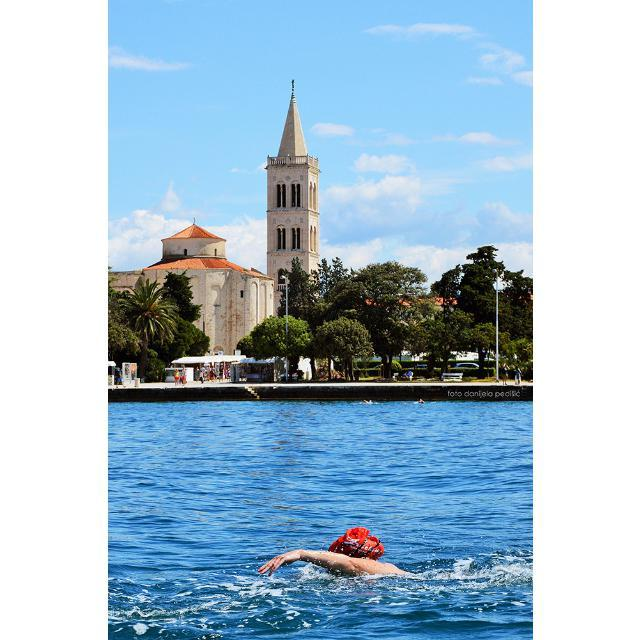human: (257, 527, 412, 585)
